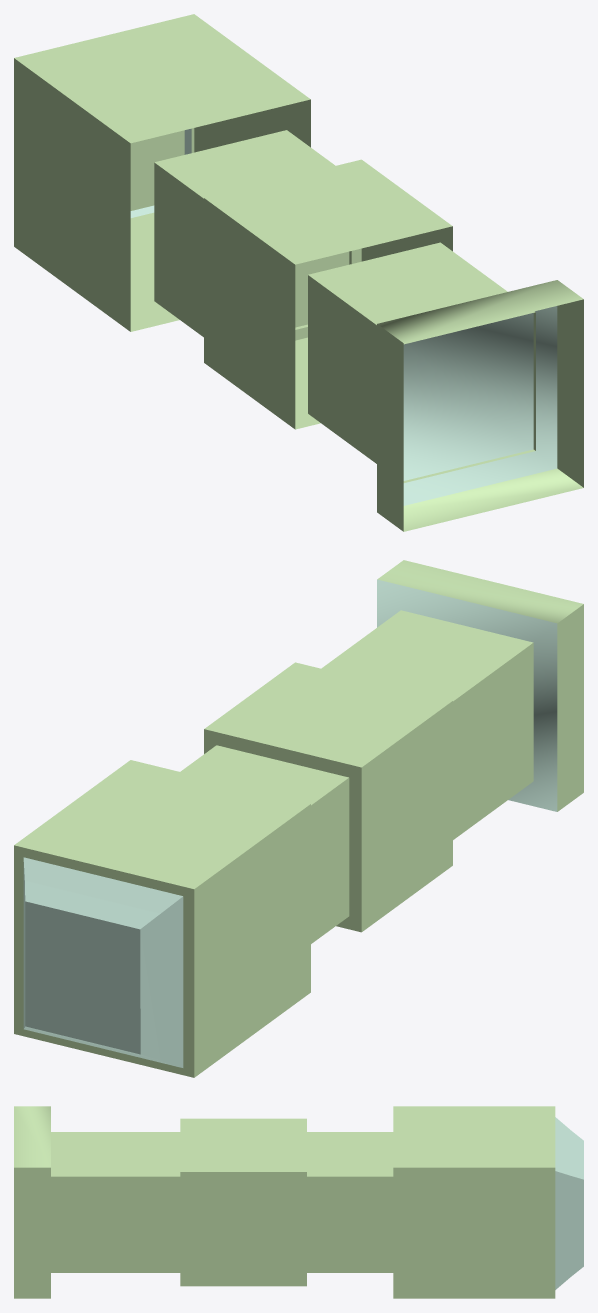
3 renders of one model, top to bottom at view 1: azimuth 30°, elevation 25°; view 2: azimuth 150°, elevation 25°; view 3: azimuth 270°, elevation 25°, orthographic. The views are drawn at different scales.
Parts seen in each view (by area): view 1: Object45; view 2: Object45; view 3: Object45.
Boxes of the visible parts, x1,y1,x2,y2 form: Object45: [14, 14, 583, 531]; Object45: [14, 560, 583, 1077]; Object45: [14, 1106, 583, 1298].
Bounding box in the file's own units: 8759 × 8759 × 34541.
